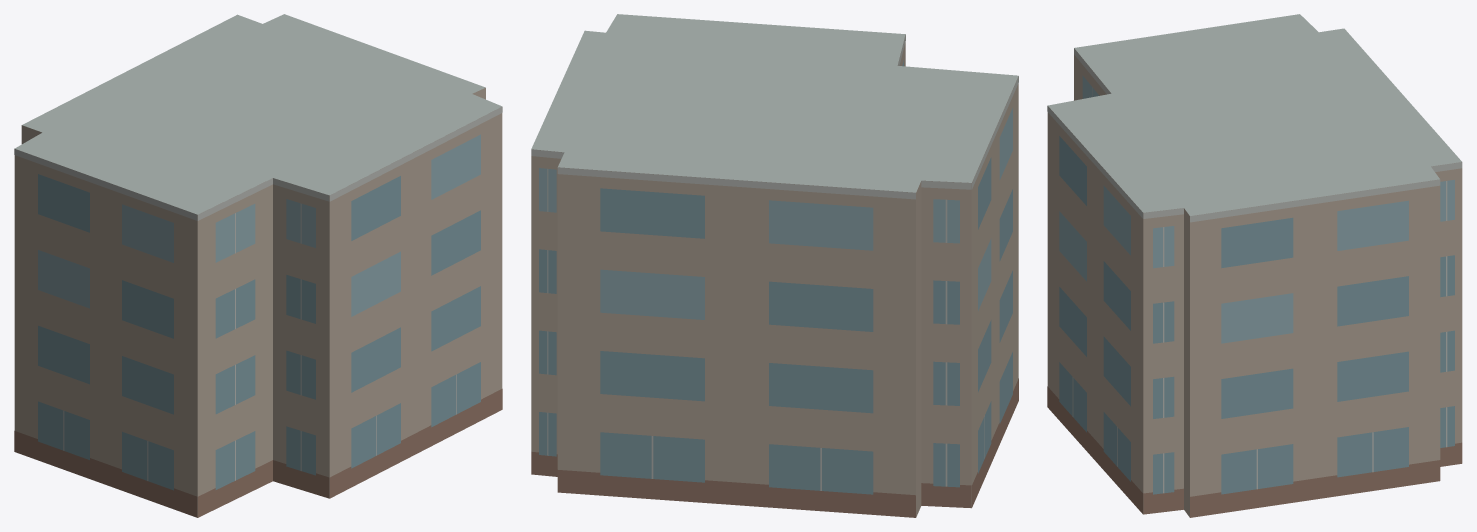
Rendered from survey-upis-32867728.glb.
The picture shows the model from 3 angles, left to right: view 1: azimuth 30°, elevation 25°; view 2: azimuth 150°, elevation 25°; view 3: azimuth 270°, elevation 25°; orthographic projection. The views are drawn at different scales.
Parts seen in each view (by area): view 1: survey-upis-32867728.tmp; view 2: survey-upis-32867728.tmp; view 3: survey-upis-32867728.tmp.
Boxes of the visible parts, bbox=[...] form: survey-upis-32867728.tmp: bbox=[14, 14, 502, 517]; survey-upis-32867728.tmp: bbox=[531, 14, 1018, 517]; survey-upis-32867728.tmp: bbox=[1047, 14, 1462, 517].
Bounding box in the file's own units: 16.75 × 11.65 × 14.52.
